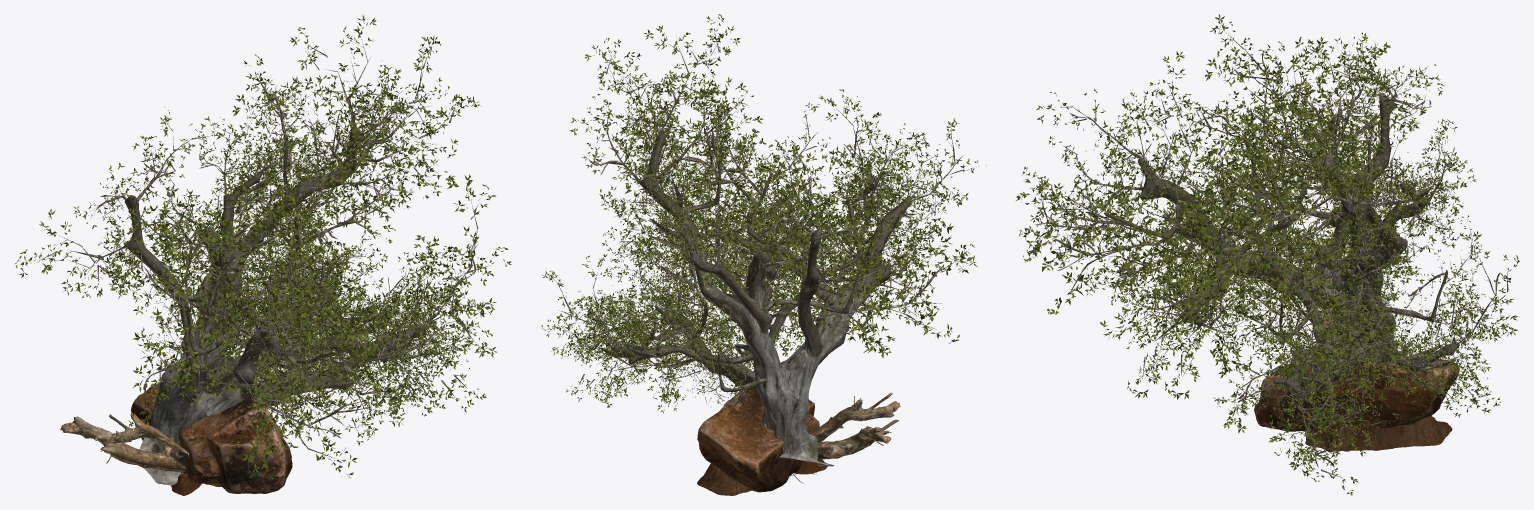
Rendered from verdant.glb.
3 renders of one model, left to right at view 1: azimuth 30°, elevation 25°; view 2: azimuth 150°, elevation 25°; view 3: azimuth 270°, elevation 25°, orthographic. The views are drawn at different scales.
Parts seen in each view (by area): view 1: grove_tree, crooked_tree, grove_tree_far, wood_rock, wood_rock_far, crooked_tree_far, old_stump, old_stump_far, fallen_trunk, fallen_trunk_far; view 2: grove_tree, crooked_tree, grove_tree_far, wood_rock, wood_rock_far, crooked_tree_far, old_stump, fallen_trunk, tangled_roots, fallen_trunk_far, old_stump_far; view 3: grove_tree, crooked_tree, grove_tree_far, wood_rock, wood_rock_far, crooked_tree_far, tangled_roots.
Part boxes in pixels (x1,y1,x2,y2): grove_tree: (15,14,511,484); crooked_tree: (140,81,479,462); grove_tree_far: (110,120,472,485); wood_rock: (130,383,292,494); wood_rock_far: (132,385,292,493); crooked_tree_far: (151,163,441,443); old_stump: (60,416,186,473); old_stump_far: (62,417,186,471); fallen_trunk: (109,411,189,466); fallen_trunk_far: (111,413,188,465); grove_tree: (570,14,986,466); crooked_tree: (541,137,872,445); grove_tree_far: (604,112,951,466); wood_rock: (697,386,819,492); wood_rock_far: (698,387,819,492); crooked_tree_far: (581,212,810,441); old_stump: (802,419,898,461); fallen_trunk: (811,392,900,442); tangled_roots: (697,463,751,495); fallen_trunk_far: (811,394,898,442); old_stump_far: (817,420,895,459); grove_tree: (1016,14,1444,407); crooked_tree: (1167,115,1519,495); grove_tree_far: (1052,76,1415,379); wood_rock: (1254,351,1459,431); wood_rock_far: (1254,349,1459,431); crooked_tree_far: (1223,173,1490,477); tangled_roots: (1305,415,1452,451).
Bounding box in the file's own units: 7.29 × 7.39 × 7.42.
12 materials, 12 textured.
